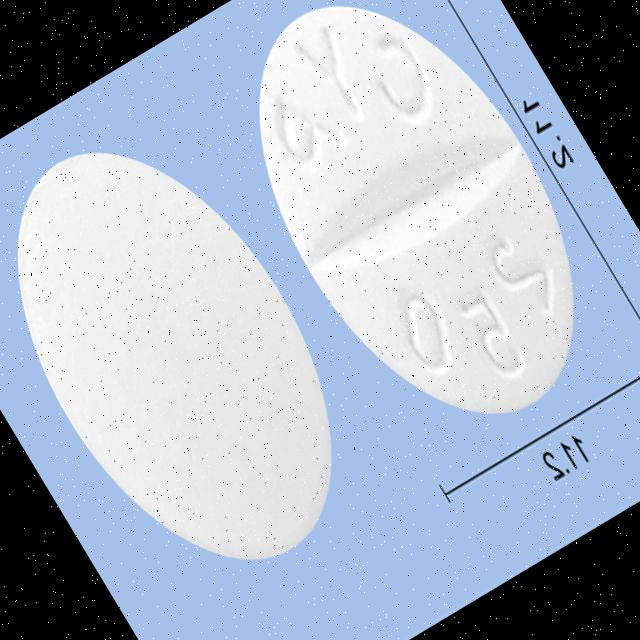Cypro: (191, 0, 640, 468), (0, 96, 398, 614)
